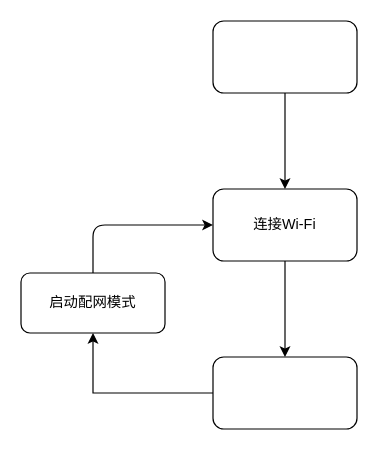
Some shapes in this 378 by 450 pixel diagram are drawn without their labels. Each missing label, with the centre of its shape:
"Wi-Fi是否连接成功" goes at point (284, 392).
"系统开机" goes at point (284, 56).
